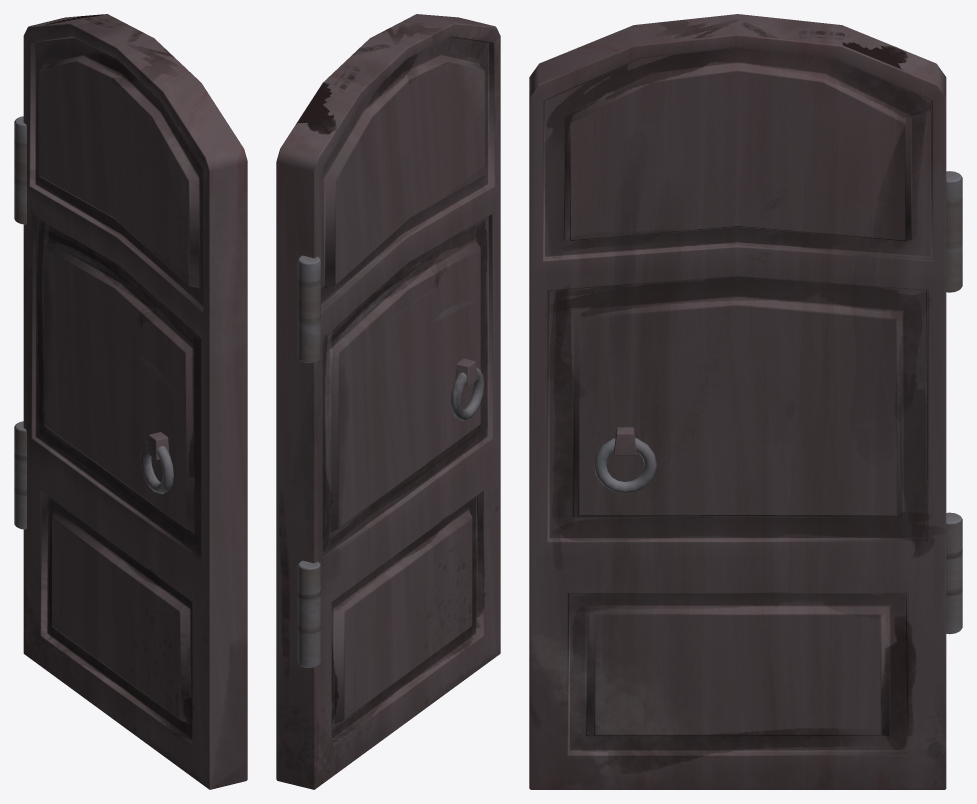
Rendered from door.glb.
The picture shows the model from 3 angles, left to right: view 1: azimuth 30°, elevation 25°; view 2: azimuth 150°, elevation 25°; view 3: azimuth 270°, elevation 25°; orthographic projection. The views are drawn at different scales.
Parts seen in each view (by area): view 1: door; view 2: door; view 3: door.
Part boxes in pixels (left/top/right/bottom): door: left=14, top=14, right=247, bottom=789; door: left=276, top=14, right=500, bottom=789; door: left=529, top=14, right=962, bottom=789.
Size of the model in its own units: 0.3212 by 3 by 1.56.
1 material, 1 textured.
